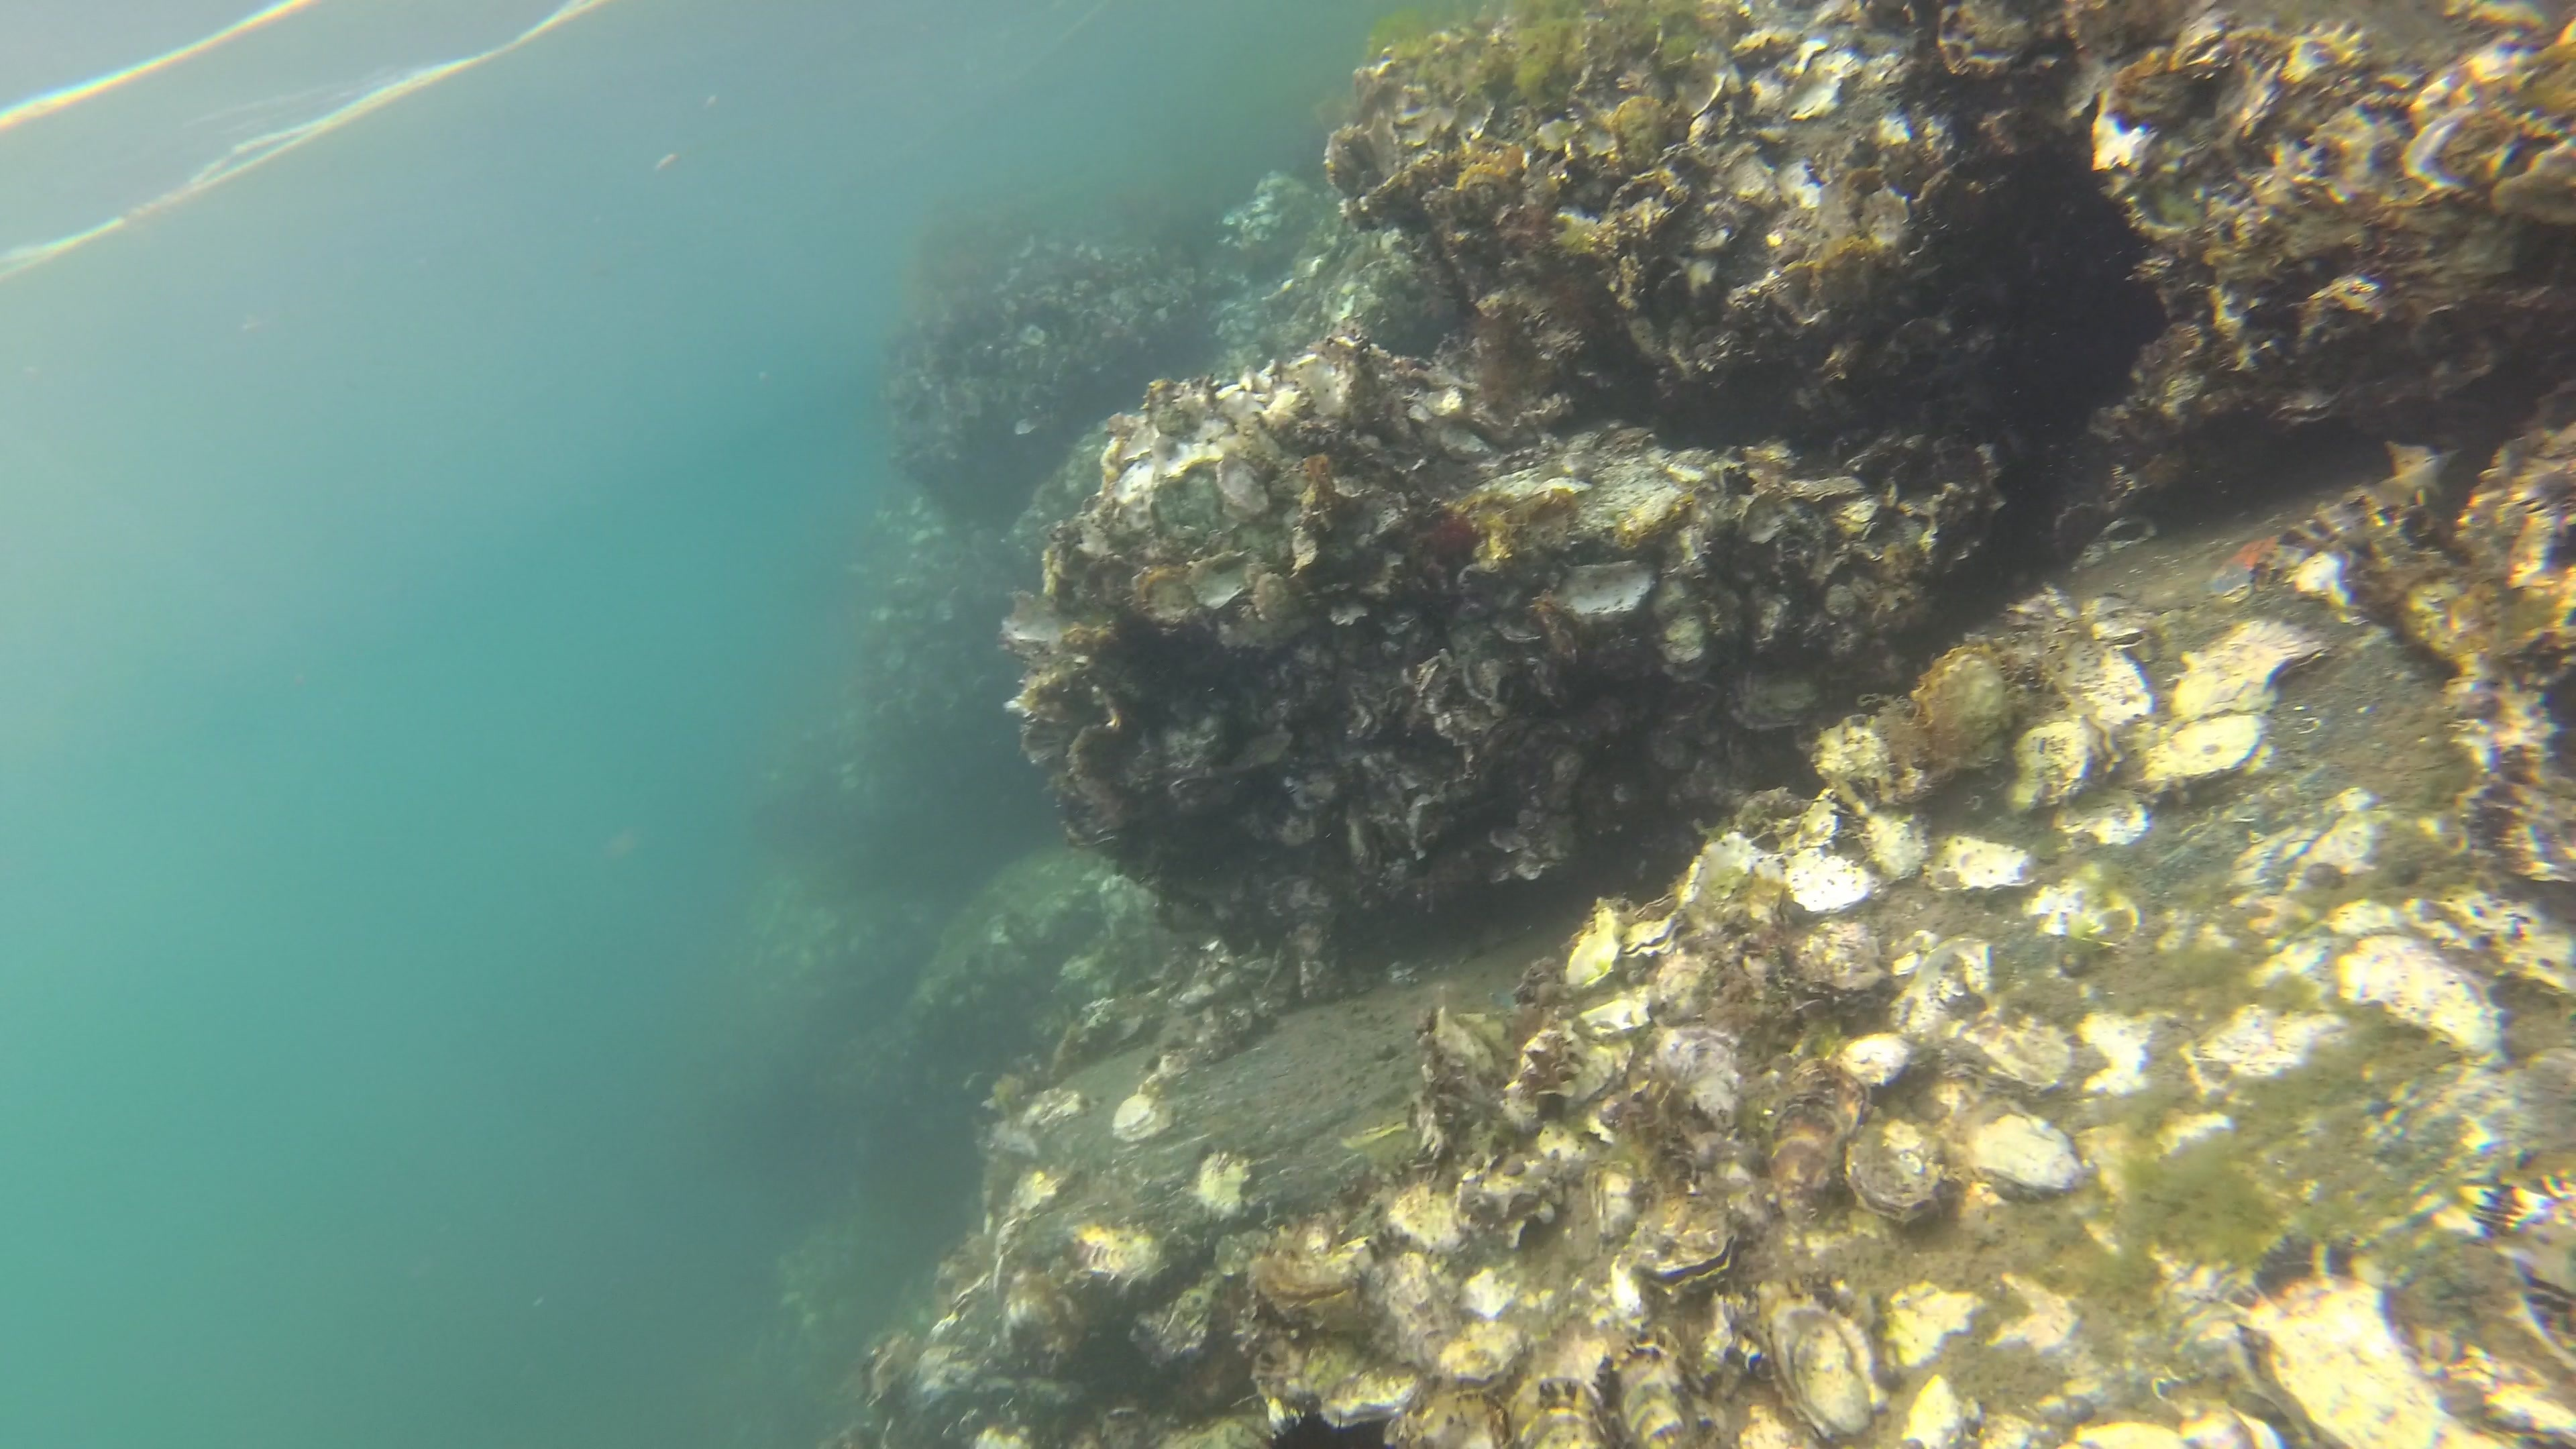echinus: (1238, 1407, 1375, 1449)
starfish: (2215, 533, 2298, 591)
